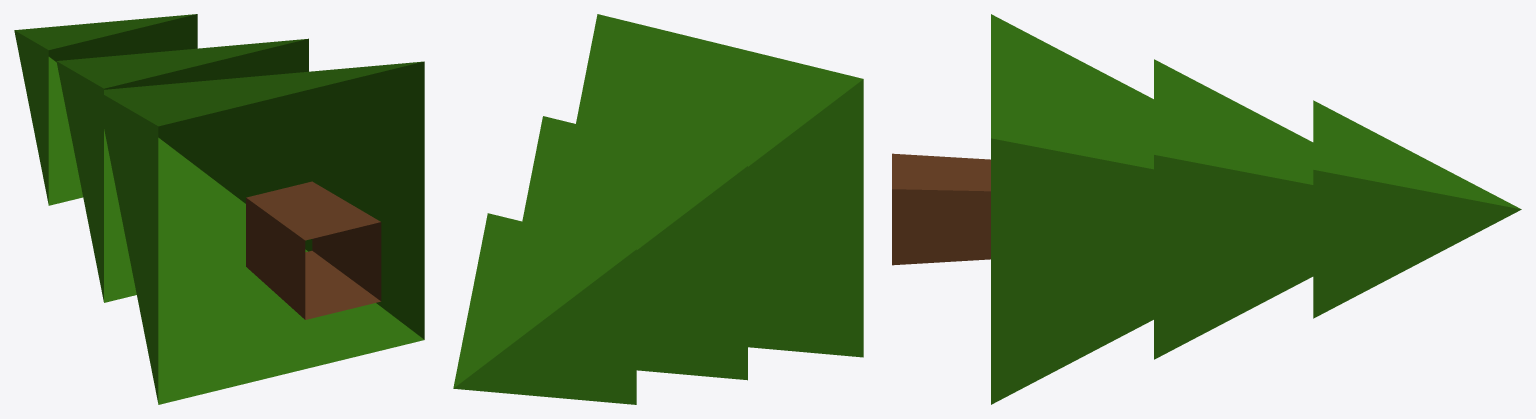
The model's file is Tree 01.FBX.
3 renders of one model, left to right at view 1: azimuth 30°, elevation 25°; view 2: azimuth 150°, elevation 25°; view 3: azimuth 270°, elevation 25°, orthographic. The views are drawn at different scales.
Parts seen in each view (by area): view 1: Tree 01; view 2: Tree 01; view 3: Tree 01.
Part boxes in pixels (left/top/right/bottom): Tree 01: left=14, top=14, right=424, bottom=404; Tree 01: left=453, top=14, right=863, bottom=404; Tree 01: left=892, top=14, right=1521, bottom=404.
Size of the model in its own units: 84.64 by 84.62 by 181.
1 material, 1 textured.
